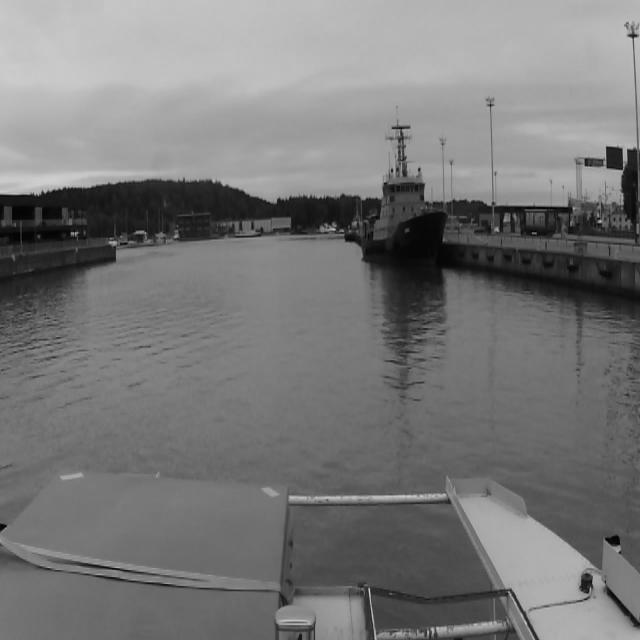ship: (356, 122, 449, 277)
